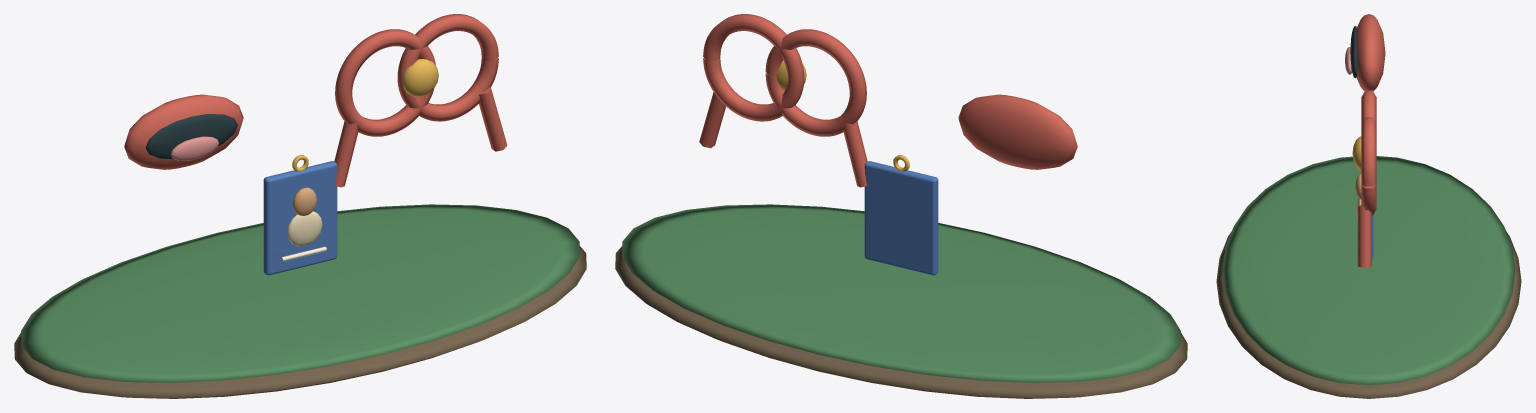
Rendered from complete-first-call-tangled-cord.glb.
3 views of the same model, side by side, from view 1: azimuth 30°, elevation 25°; view 2: azimuth 150°, elevation 25°; view 3: azimuth 270°, elevation 25° (orthographic). The views are drawn at different scales.
Visible parts, largest first — view 1: complete-first-call-tangled-cord_surface_01, complete-first-call-tangled-cord_surface_02, complete-first-call-tangled-cord_surface_00, complete-first-call-tangled-cord_surface_06, complete-first-call-tangled-cord_surface_03, complete-first-call-tangled-cord_surface_05, complete-first-call-tangled-cord_surface_08, complete-first-call-tangled-cord_surface_04, complete-first-call-tangled-cord_surface_07; view 2: complete-first-call-tangled-cord_surface_01, complete-first-call-tangled-cord_surface_02, complete-first-call-tangled-cord_surface_00, complete-first-call-tangled-cord_surface_06; view 3: complete-first-call-tangled-cord_surface_01, complete-first-call-tangled-cord_surface_00, complete-first-call-tangled-cord_surface_02, complete-first-call-tangled-cord_surface_03.
Part boxes in pixels (x1,y1,x2,y2): complete-first-call-tangled-cord_surface_01: (21, 204, 579, 382); complete-first-call-tangled-cord_surface_02: (124, 14, 507, 187); complete-first-call-tangled-cord_surface_00: (14, 246, 586, 398); complete-first-call-tangled-cord_surface_06: (263, 161, 337, 275); complete-first-call-tangled-cord_surface_03: (145, 114, 237, 159); complete-first-call-tangled-cord_surface_05: (292, 59, 438, 171); complete-first-call-tangled-cord_surface_08: (287, 211, 322, 246); complete-first-call-tangled-cord_surface_04: (170, 136, 218, 160); complete-first-call-tangled-cord_surface_07: (292, 187, 316, 215); complete-first-call-tangled-cord_surface_01: (622, 204, 1180, 382); complete-first-call-tangled-cord_surface_02: (699, 14, 1077, 187); complete-first-call-tangled-cord_surface_00: (615, 246, 1187, 398); complete-first-call-tangled-cord_surface_06: (864, 161, 938, 275); complete-first-call-tangled-cord_surface_01: (1222, 156, 1515, 385); complete-first-call-tangled-cord_surface_00: (1216, 231, 1521, 398); complete-first-call-tangled-cord_surface_02: (1356, 14, 1385, 267); complete-first-call-tangled-cord_surface_03: (1350, 26, 1357, 78).
Size of the model in its own units: 4.56 by 2.14 by 2.5.
